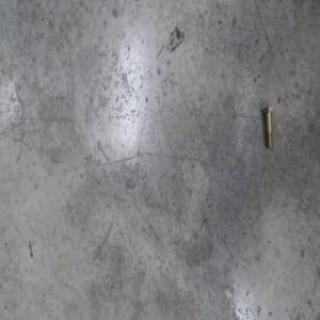Bolttrack_idkeyframe: (262, 104, 274, 148)
